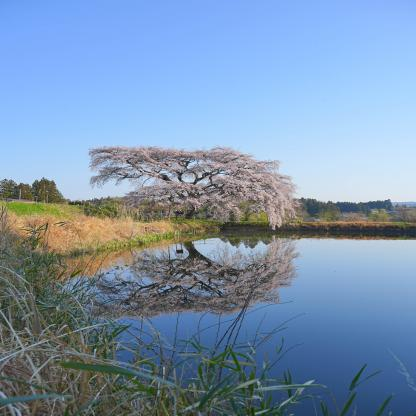EdohiganSakura: (88, 144, 302, 232)
